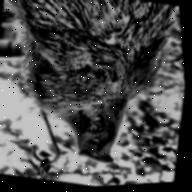boar: (14, 0, 184, 184)
